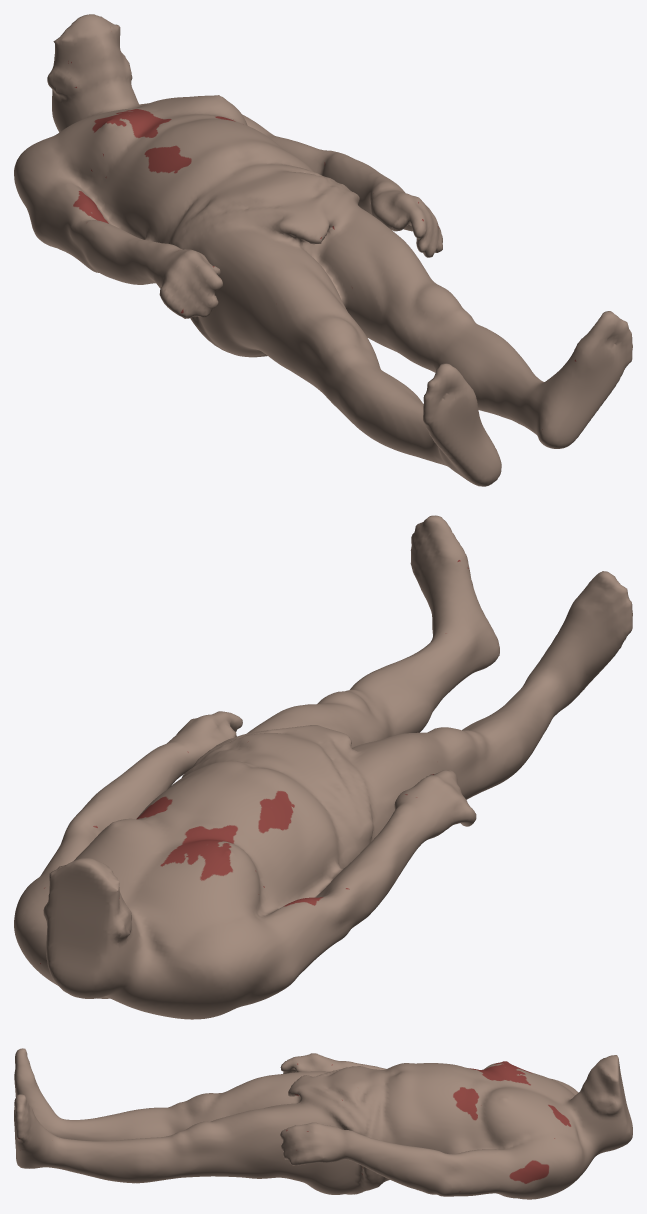
File: Case2_High.glb
The picture shows the model from 3 angles, top to bottom: view 1: azimuth 30°, elevation 25°; view 2: azimuth 150°, elevation 25°; view 3: azimuth 270°, elevation 25°; orthographic projection. The views are drawn at different scales.
Visible parts, largest first — view 1: Case 2; view 2: Case 2; view 3: Case 2.
Boxes of the visible parts, x1,y1,x2,y2 form: Case 2: [14, 14, 632, 486]; Case 2: [14, 515, 632, 1019]; Case 2: [14, 1048, 632, 1199].
Size of the model in its own units: 0.4412 by 0.2647 by 1.15.
Materials: 1 (1 with a texture image).
